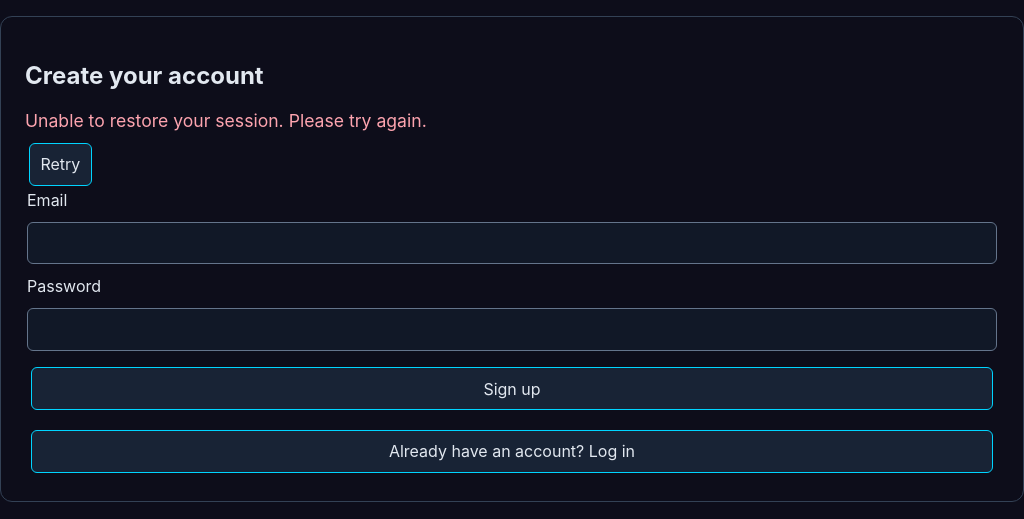
Test: restores the session on retry without requiring re-login
The width and height of the screenshot is (1024, 519).
expect the text "Signed in as" is not shown: met
Click the button "Retry": (60,164) [29,143,92,186]
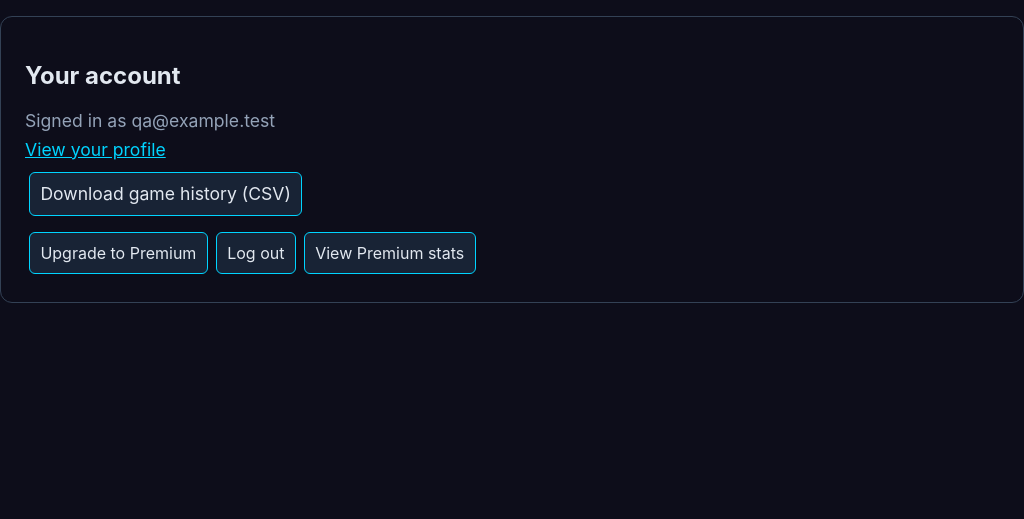
expect the message "Unable to restore your session. Please try again." is gone: met
